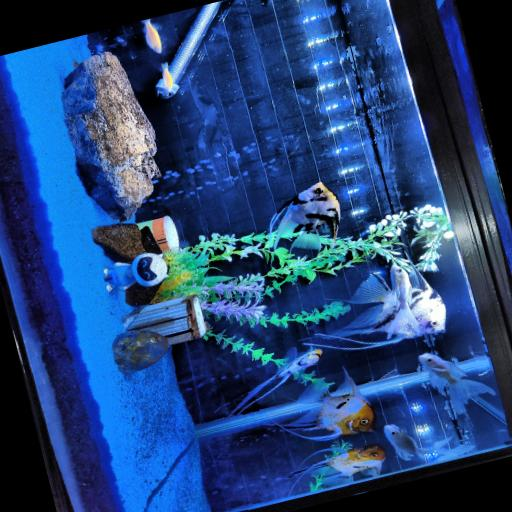Fish: (322, 264, 445, 348), (279, 368, 374, 440), (230, 348, 321, 414), (269, 181, 339, 249), (418, 353, 494, 413), (291, 444, 385, 485), (383, 424, 472, 460), (143, 19, 161, 52), (161, 62, 172, 90)
